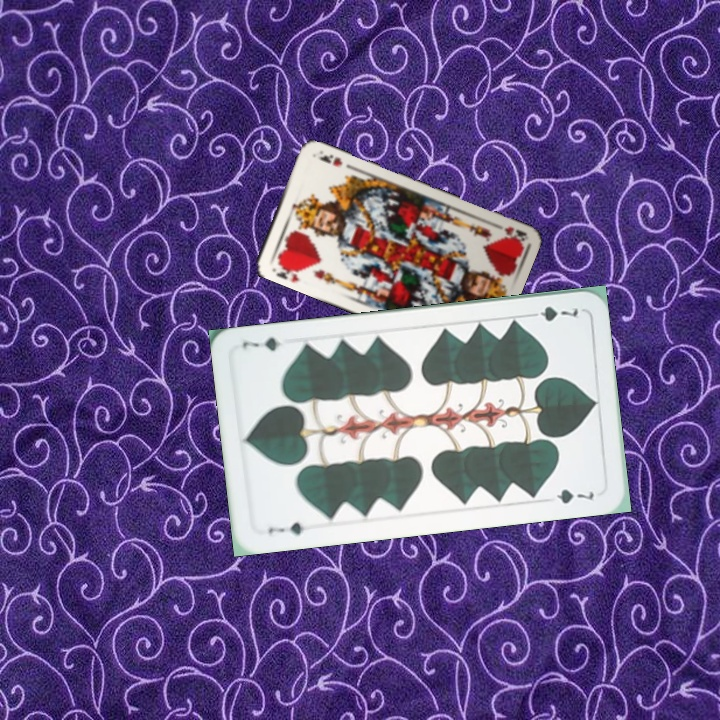G7: (523, 302, 581, 324), (264, 518, 315, 538)
HK: (488, 218, 528, 246), (272, 258, 304, 285)
